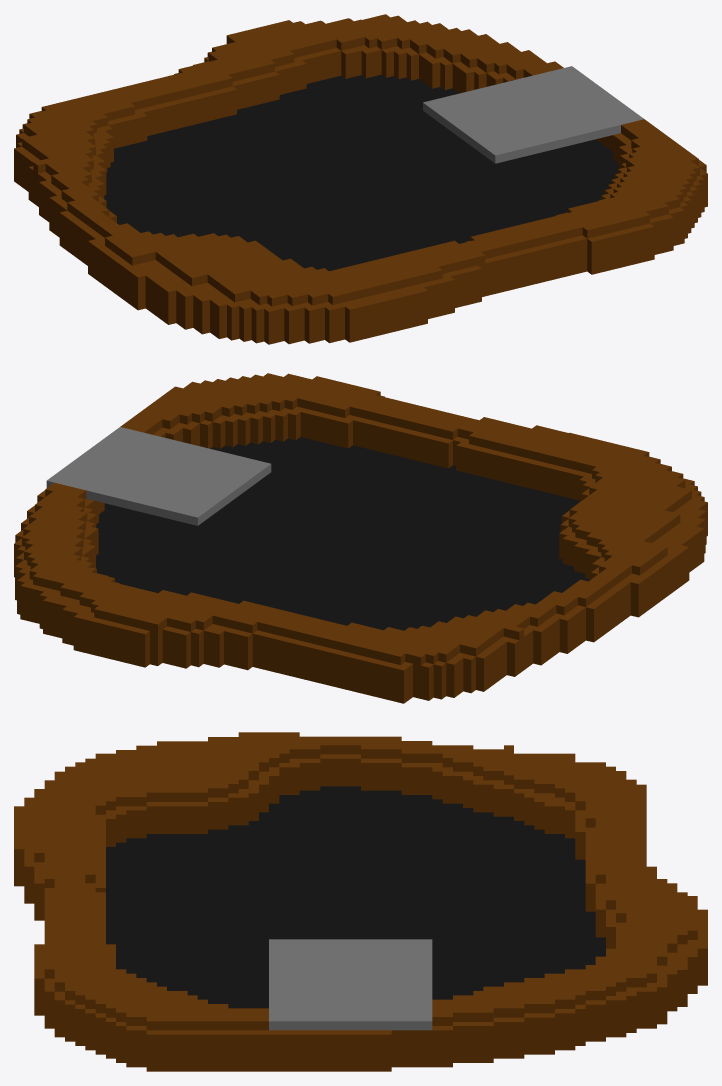
File: Crater.obj
The picture shows the model from 3 angles, top to bottom: view 1: azimuth 30°, elevation 25°; view 2: azimuth 150°, elevation 25°; view 3: azimuth 270°, elevation 25°; orthographic projection. The views are drawn at different scales.
Size of the model in its own units: 6.9 by 0.5 by 6.8.
1 material, 1 textured.
